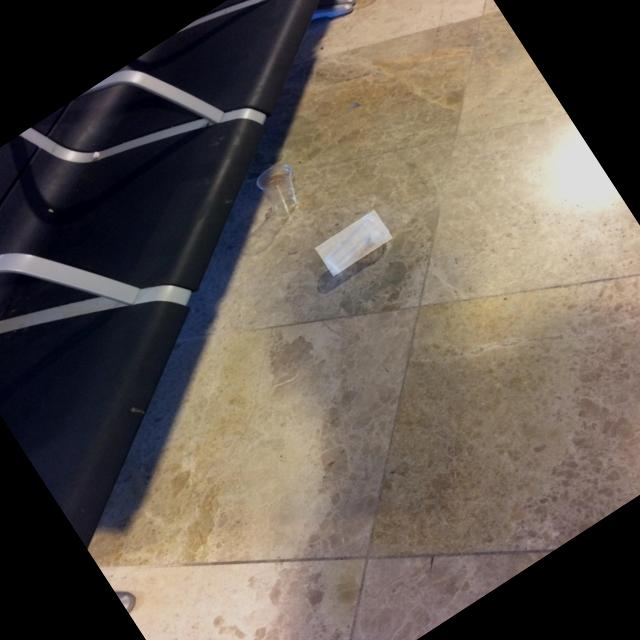Cup: (324, 213, 389, 273), (257, 164, 297, 214)
